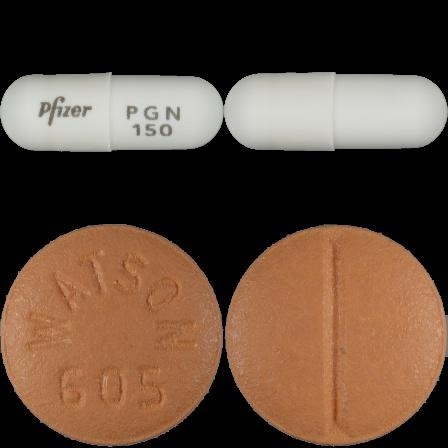52125-253: (0, 0, 224, 224)
